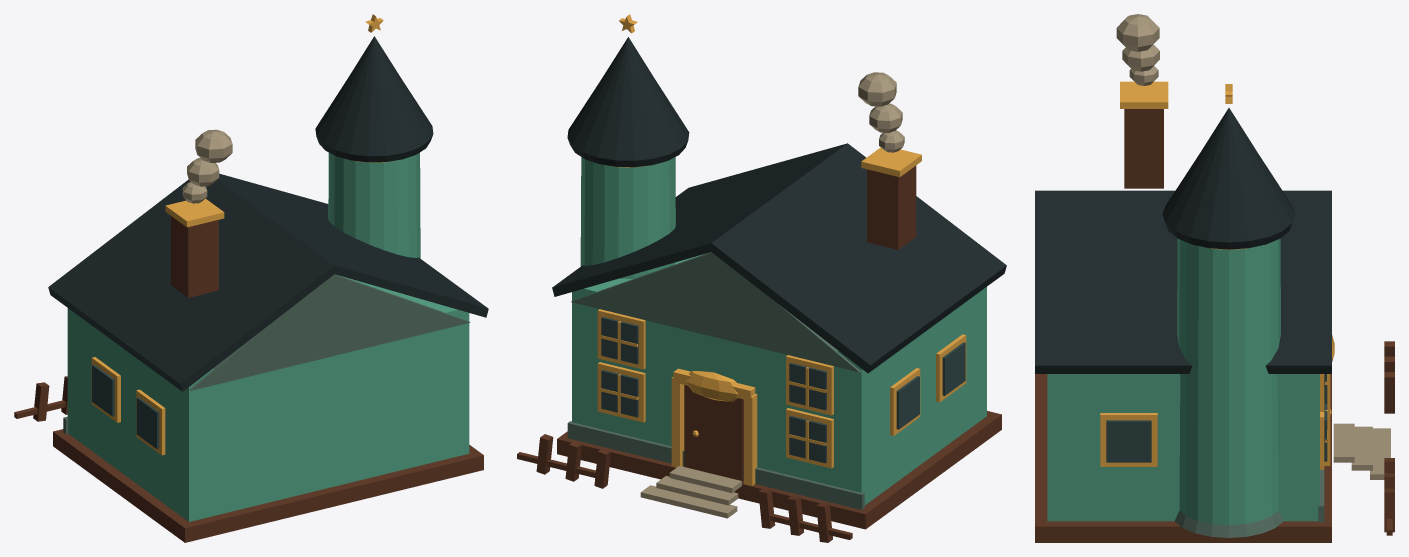
File: ParkParkHauntedHouseV2.obj
3 views of the same model, side by side, from view 1: azimuth 30°, elevation 25°; view 2: azimuth 150°, elevation 25°; view 3: azimuth 270°, elevation 25° (orthographic). The views are drawn at different scales.
Visible parts, largest first — view 1: ParkParkHauntedHouseV2; view 2: ParkParkHauntedHouseV2; view 3: ParkParkHauntedHouseV2.
Boxes of the visible parts, <box> form: ParkParkHauntedHouseV2: <box>14,14,488,542</box>; ParkParkHauntedHouseV2: <box>517,14,1006,542</box>; ParkParkHauntedHouseV2: <box>1035,14,1394,542</box>.
Bounding box in the file's own units: 14.5 × 16.25 × 11.88.
